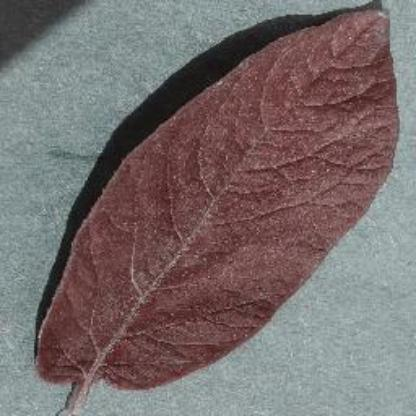Healthy-plant: (32, 8, 406, 398)
